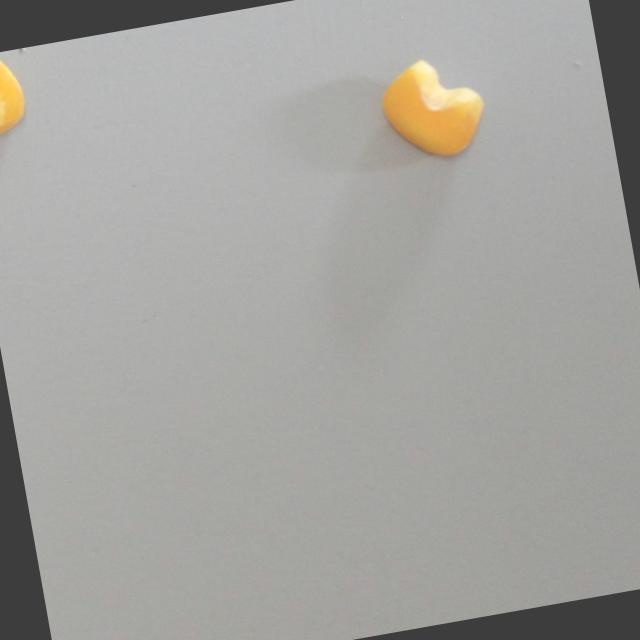no_canjicado: (370, 47, 493, 170), (0, 49, 32, 145)
